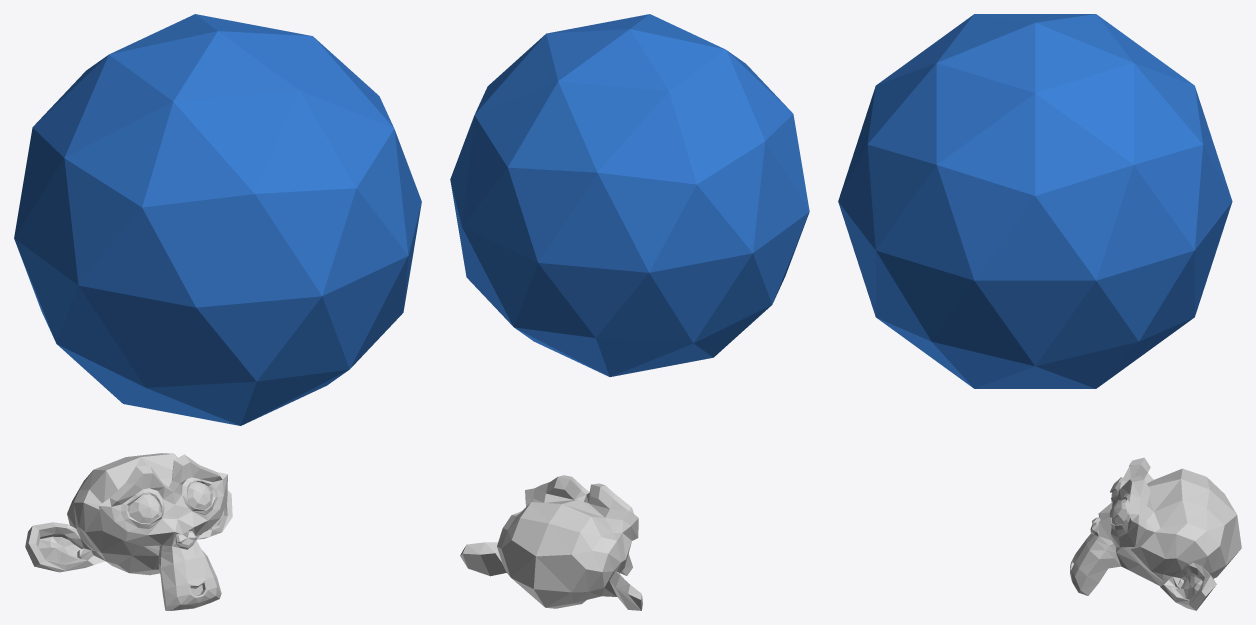
The picture shows the model from 3 angles, left to right: view 1: azimuth 30°, elevation 25°; view 2: azimuth 150°, elevation 25°; view 3: azimuth 270°, elevation 25°; orthographic projection. The views are drawn at different scales.
Parts seen in each view (by area): view 1: Icosphere, Suzanne; view 2: Icosphere, Suzanne; view 3: Icosphere, Suzanne.
Boxes of the visible parts, bbox=[...] form: Icosphere: bbox=[14, 14, 421, 425]; Suzanne: bbox=[25, 453, 232, 610]; Icosphere: bbox=[450, 14, 809, 376]; Suzanne: bbox=[460, 475, 642, 610]; Icosphere: bbox=[838, 14, 1232, 388]; Suzanne: bbox=[1070, 457, 1241, 610].
Bounding box in the file's own units: 1.9 × 2.05 × 3.16.
